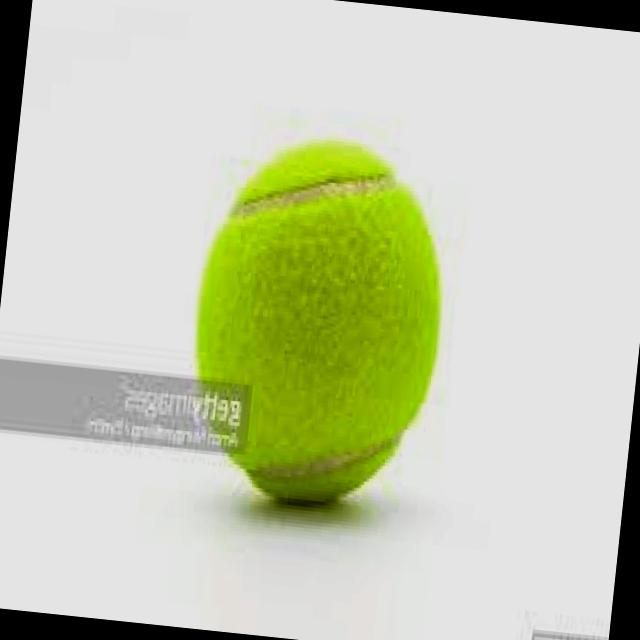ball: (159, 103, 473, 536)
